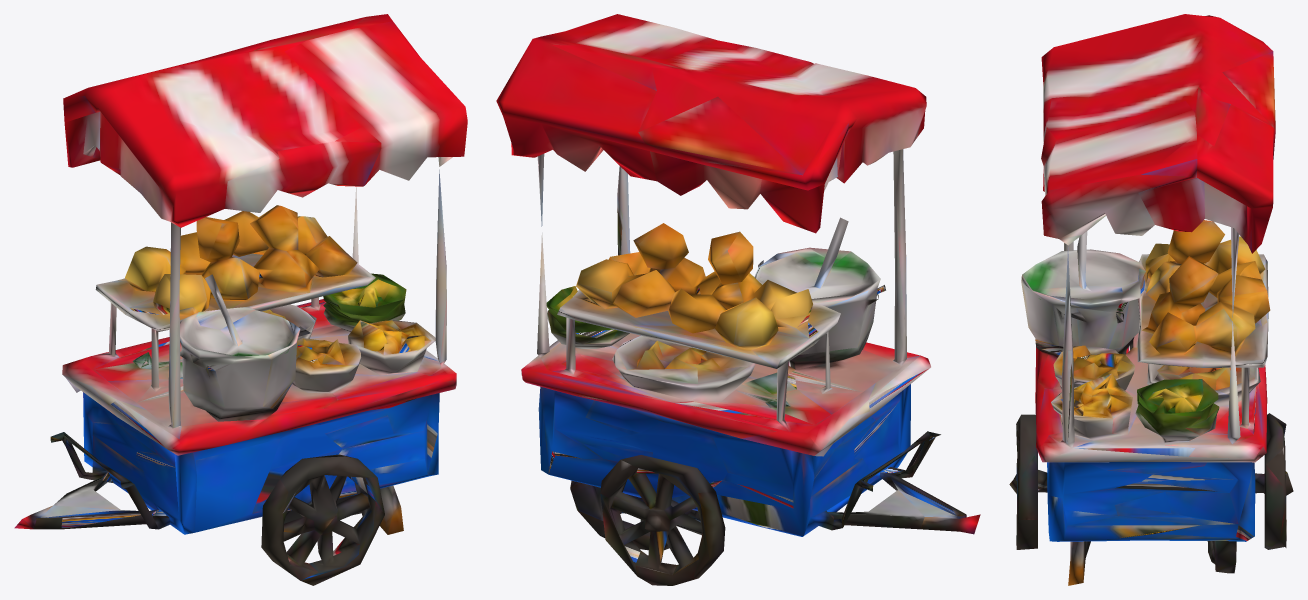
File: panipuri.glb
3 views of the same model, side by side, from view 1: azimuth 30°, elevation 25°; view 2: azimuth 150°, elevation 25°; view 3: azimuth 270°, elevation 25° (orthographic). The views are drawn at different scales.
Visible parts, largest first — view 1: tripo_node_20a36986-0069-4c26-8d43-915ff9b1aca8; view 2: tripo_node_20a36986-0069-4c26-8d43-915ff9b1aca8; view 3: tripo_node_20a36986-0069-4c26-8d43-915ff9b1aca8.
Part boxes in pixels (x1,y1,x2,y2): tripo_node_20a36986-0069-4c26-8d43-915ff9b1aca8: (14, 14, 467, 585); tripo_node_20a36986-0069-4c26-8d43-915ff9b1aca8: (496, 14, 980, 585); tripo_node_20a36986-0069-4c26-8d43-915ff9b1aca8: (1009, 14, 1293, 585).
Size of the model in its own units: 0.8909 by 0.9767 by 0.5376.
Materials: 1 (1 with a texture image).
